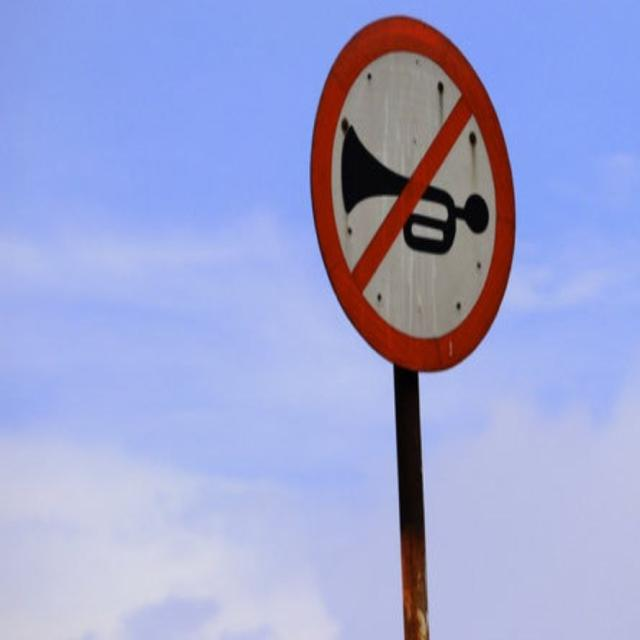No_Horn: (311, 13, 517, 361)
